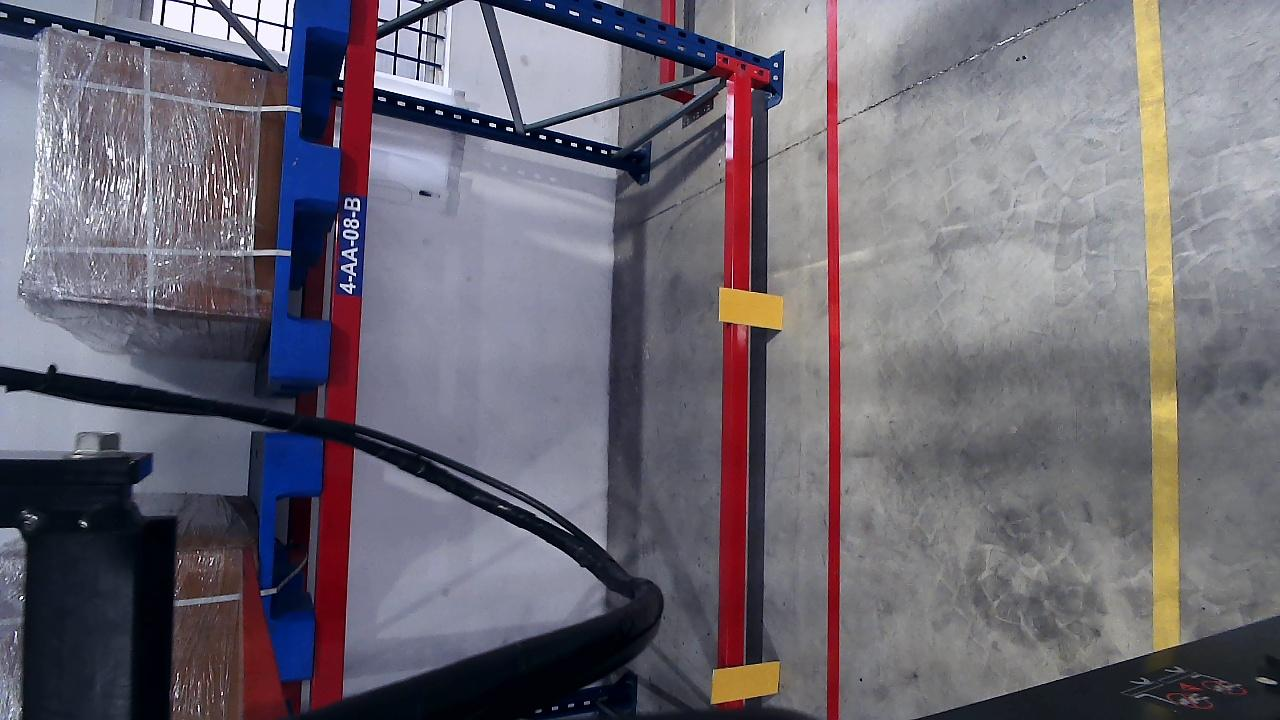h_rack: (320, 0, 383, 420), (726, 75, 758, 630), (308, 399, 361, 700)
orange_strip: (710, 660, 780, 702), (719, 286, 784, 329)
red_line: (824, 14, 842, 720)
small_pallet: (265, 0, 351, 380), (263, 441, 322, 674)
yellow_line: (1135, 0, 1181, 582)
